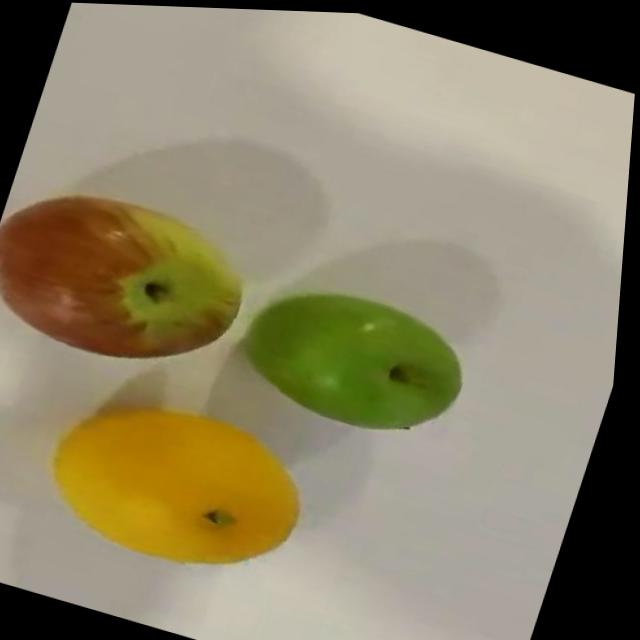Apple: (0, 167, 268, 386), (228, 265, 488, 448)
Orange: (36, 375, 331, 590)
